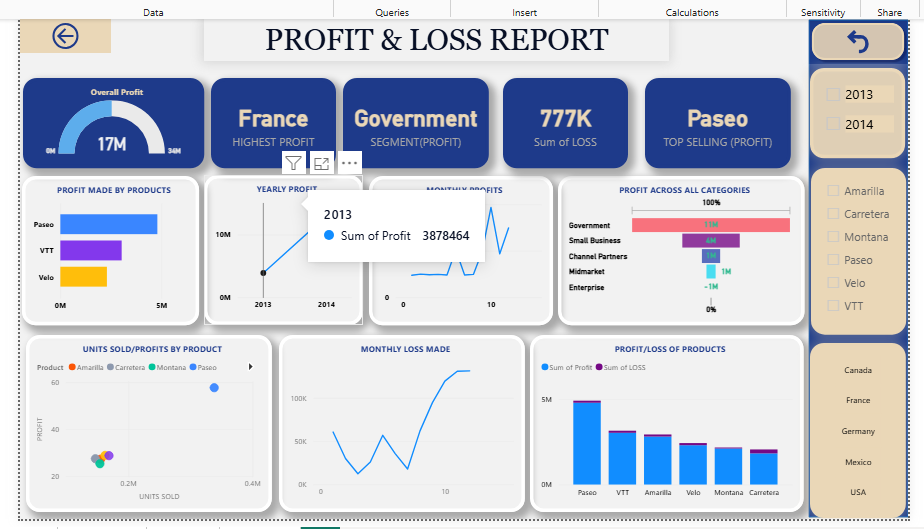

Layout of this report page (visuals, bound fields, positions):
{"tool":"powerbi","page":{"name":" PROFIT","canvas":[1280,720],"ordinal":3},"visuals":[{"type":"gauge","title":"Overall Profit","fields":{"Y":["Sum(Sheet1.Profit)"]},"box":[4.3,85,260.6,129.6],"z":0},{"type":"textbox","box":[265,0,670,60],"z":1000},{"type":"actionButton","box":[0,0,131,49],"z":2000},{"type":"clusteredBarChart","title":"PROFIT MADE BY PRODUCTS","fields":{"Category":["Sheet1.Product"],"Y":["Sum(Sheet1.Profit)"]},"box":[2.9,225.7,255,215],"z":3000},{"type":"card","fields":{"Values":["Min(Sheet1.Country)"]},"box":[275,85,180,130],"z":4000},{"type":"card","fields":{"Values":["Min(Sheet1.Segment)"]},"box":[465.1,85,210.2,130],"z":5000},{"type":"card","fields":{"Values":["Min(Sheet1.Product)"]},"box":[900,85,210,130],"z":6000},{"type":"lineChart","title":"YEARLY PROFIT","fields":{"Category":["Sheet1.Year"],"Y":["Sum(Sheet1.Profit)"]},"box":[265,224.6,229,216],"z":7000},{"type":"lineChart","title":"MONTHLY PROFITS","fields":{"Y":["Sum(Sheet1.PROFIT PER)"],"Category":["Sheet1.Month Number"]},"box":[502.6,226.1,265,214.6],"z":8000},{"type":"funnel","title":"PROFIT ACROSS ALL CATEGORIES","fields":{"Category":["Sheet1.Segment","Sheet1.Country","Sheet1.Product"],"Y":["Sum(Sheet1.Profit)"]},"box":[774.7,226.1,355,214.6],"z":9000},{"type":"scatterChart","title":"UNITS SOLD/PROFITS BY PRODUCT","fields":{"X":["Sum(Sheet1.Units Sold)"],"Y":["Sum(Sheet1.PROFIT PER)"],"Category":["Sheet1.Product"],"Series":["Sheet1.Product"]},"box":[8.6,455,354.2,255],"z":10000},{"type":"lineChart","title":"MONTHLY LOSS MADE","fields":{"Y":["Sum(Sheet1.LOSS)"],"Category":["Sheet1.Month Number"]},"box":[373,455,354.2,255],"z":11000},{"type":"card","fields":{"Values":["Sum(Sheet1.LOSS)"]},"box":[695.5,85,180,130],"z":12000},{"type":"columnChart","title":"PROFIT/LOSS OF PRODUCTS","fields":{"Category":["Sheet1.Product"],"Y":["Sum(Sheet1.Profit)","Sum(Sheet1.LOSS)"]},"box":[734.4,455,394,255],"z":13000},{"type":"shape","box":[1134.7,0,145.4,718.6],"z":13500},{"type":"slicer","fields":{"Values":["Sheet1.Year"]},"box":[1137.6,70.6,136.8,129.6],"z":14000},{"type":"slicer","fields":{"Values":["Sheet1.Country"]},"box":[1137.6,466.6,138.2,252],"z":15000},{"type":"slicer","fields":{"Values":["Sheet1.Product"]},"box":[1139,214.6,136.8,240.5],"z":16000},{"type":"actionButton","box":[1134.7,0,144,64.8],"z":18000}]}

Visuals, with their boxes in screenshot pixels (x1, y1, x2, y2):
"Overall Profit" gauge: x1=29 y1=78 x2=208 y2=167
textbox: x1=208 y1=19 x2=668 y2=60
actionButton: x1=26 y1=19 x2=116 y2=53
"PROFIT MADE BY PRODUCTS" clusteredBarChart: x1=28 y1=174 x2=204 y2=322
card - Min(Sheet1.Country): x1=215 y1=78 x2=339 y2=167
card - Min(Sheet1.Segment): x1=346 y1=78 x2=490 y2=167
card - Min(Sheet1.Product): x1=644 y1=78 x2=789 y2=167
"YEARLY PROFIT" lineChart: x1=208 y1=173 x2=366 y2=322
"MONTHLY PROFITS" lineChart: x1=372 y1=175 x2=554 y2=322
"PROFIT ACROSS ALL CATEGORIES" funnel: x1=558 y1=175 x2=802 y2=322
"UNITS SOLD/PROFITS BY PRODUCT" scatterChart: x1=32 y1=332 x2=276 y2=507
"MONTHLY LOSS MADE" lineChart: x1=283 y1=332 x2=526 y2=507
card - Sum(Sheet1.LOSS): x1=504 y1=78 x2=628 y2=167
"PROFIT/LOSS OF PRODUCTS" columnChart: x1=531 y1=332 x2=801 y2=507
shape: x1=806 y1=19 x2=905 y2=513
slicer - Sheet1.Year: x1=808 y1=68 x2=902 y2=157
slicer - Sheet1.Country: x1=808 y1=340 x2=903 y2=513
slicer - Sheet1.Product: x1=809 y1=167 x2=903 y2=332
actionButton: x1=806 y1=19 x2=905 y2=64
